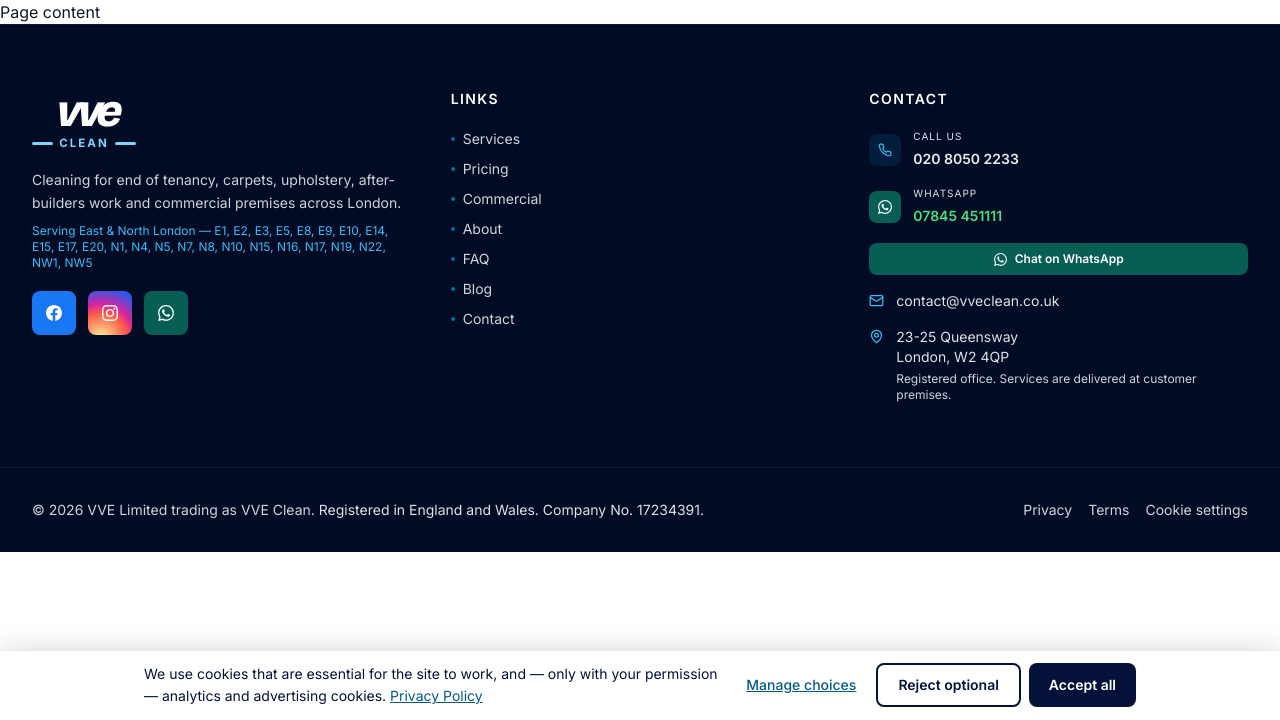
Test: CookieConsentProvider — Manage choices › lets the visitor grant only analytics and saves a custom choice
What coordinates should you click on to do the following:
click the button "Manage choices"
I would click on:
 (801, 685)
Its box is [734,663,868,707].
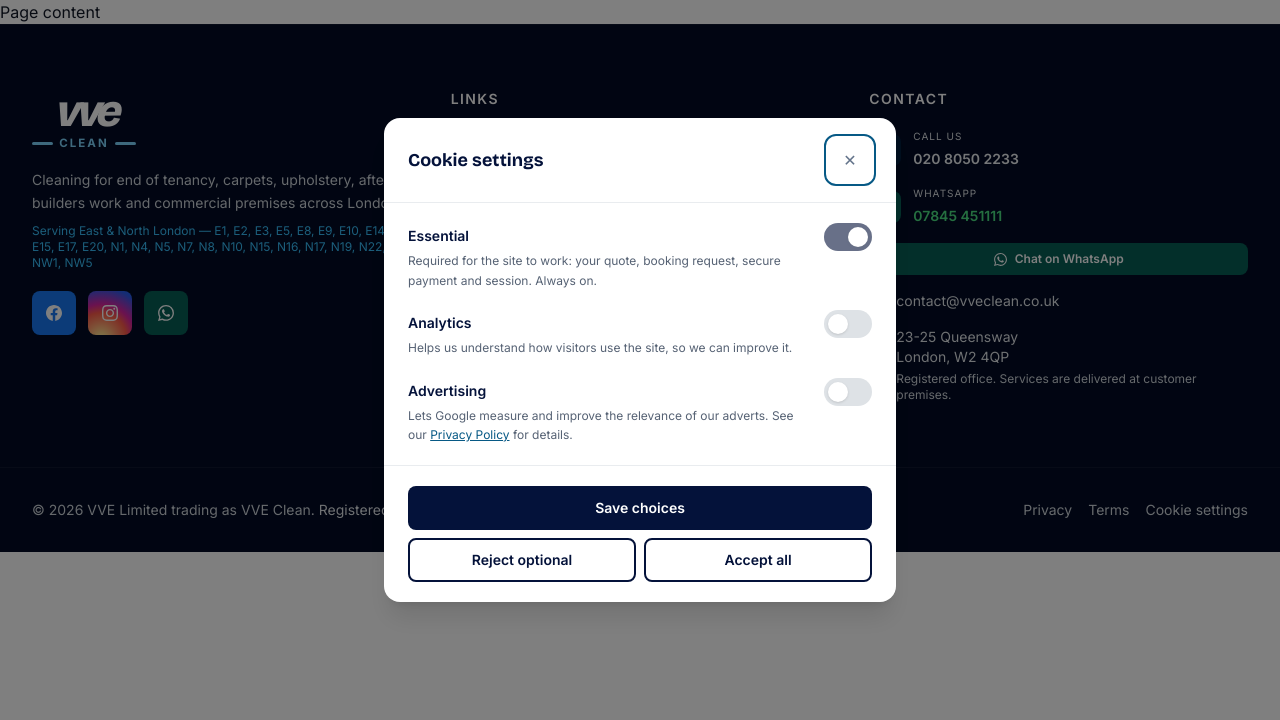
What coordinates should you click on to do the following:
click the switch with id "consent-analytics"
I would click on:
 (848, 324)
Its box is [824,310,872,338].
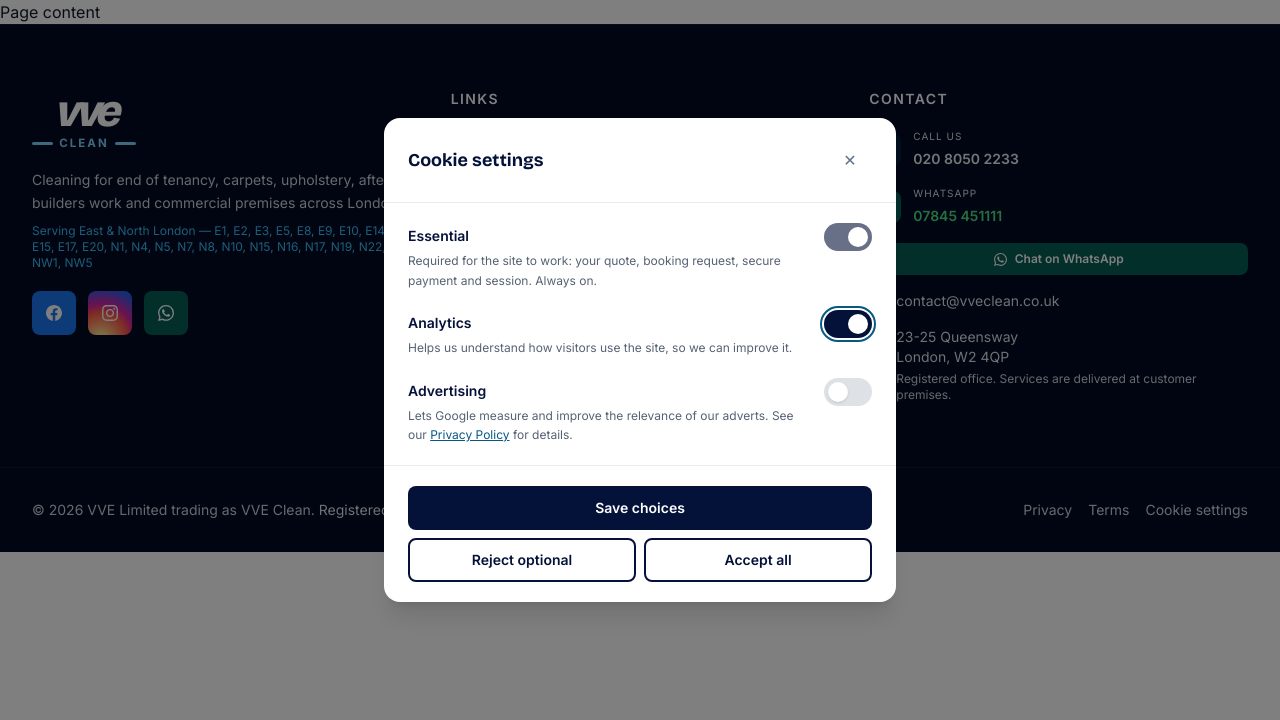
What coordinates should you click on to do the following:
click the button "Save choices"
I would click on:
 (640, 508)
Its box is [408,486,872,530].
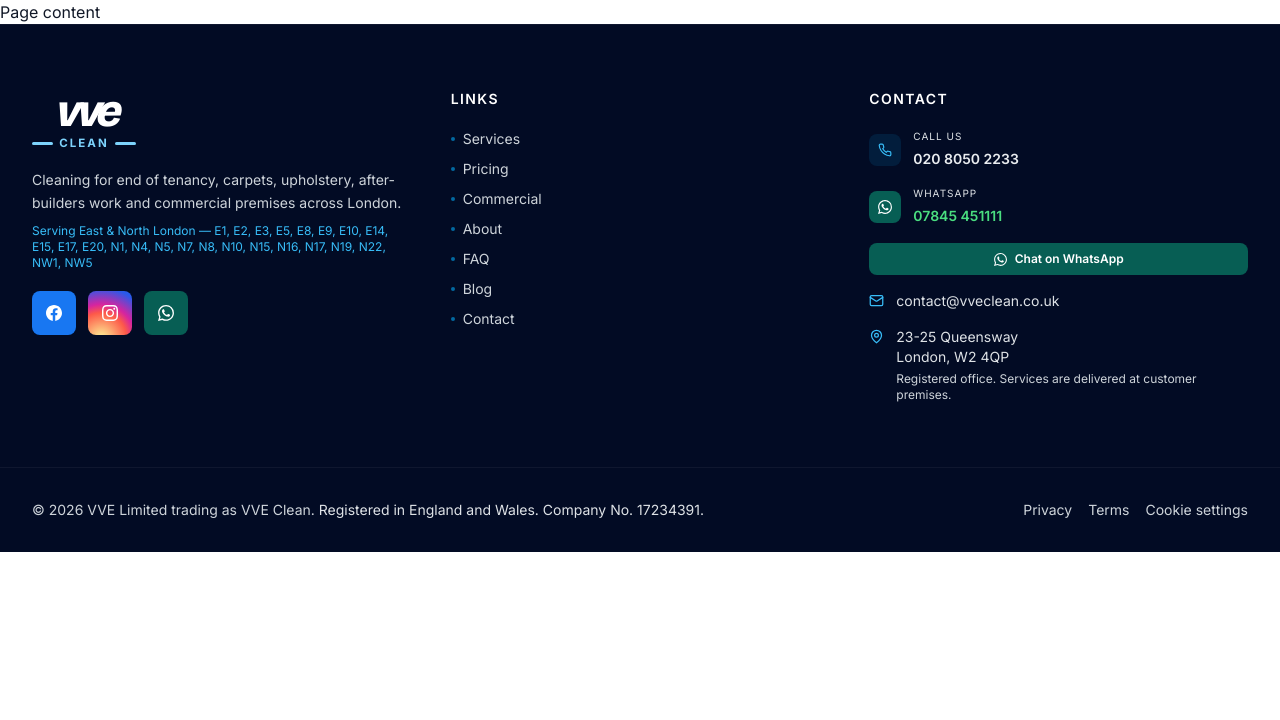
Check: the dialog is gone
